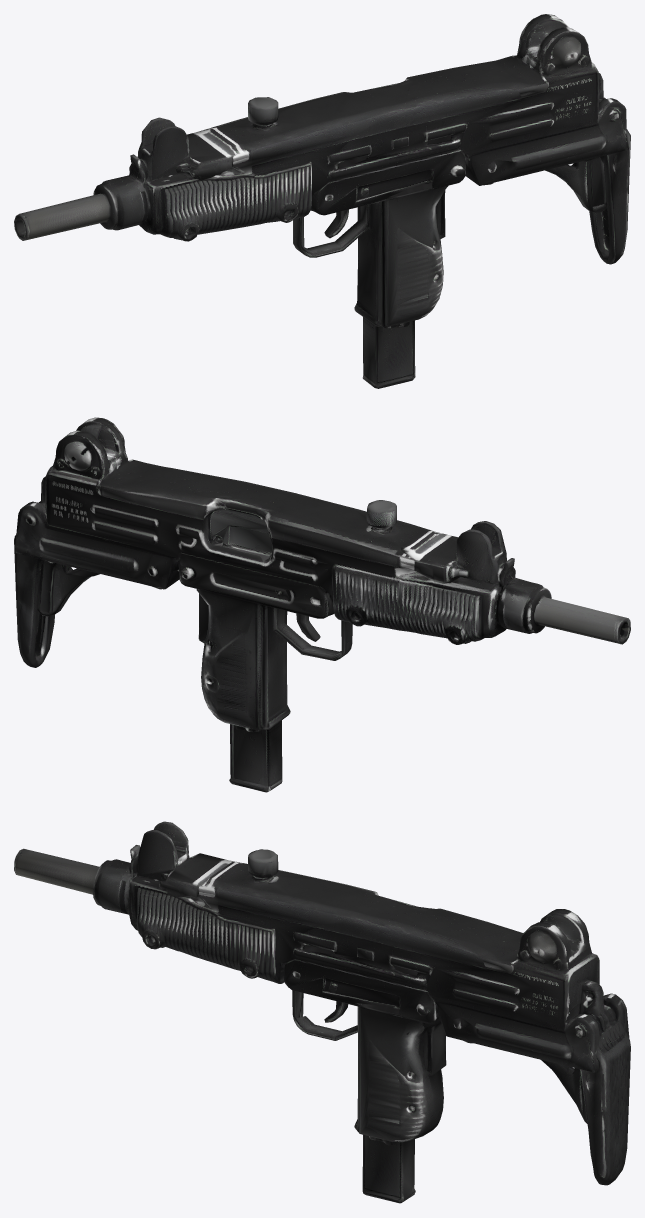
Rendered from Uzi.fbx.
3 views of the same model, one above another, from view 1: azimuth 30°, elevation 25°; view 2: azimuth 150°, elevation 25°; view 3: azimuth 330°, elevation 25° (orthographic).
Parts seen in each view (by area): view 1: Mesh_0; view 2: Mesh_0; view 3: Mesh_0.
Part boxes in pixels (x1,y1,x2,y2): Mesh_0: (14, 14, 630, 388); Mesh_0: (14, 417, 630, 792); Mesh_0: (14, 821, 630, 1203).
Bounding box in the file's own units: 191 × 96.55 × 23.72.
Materials: 1 (1 with a texture image).
